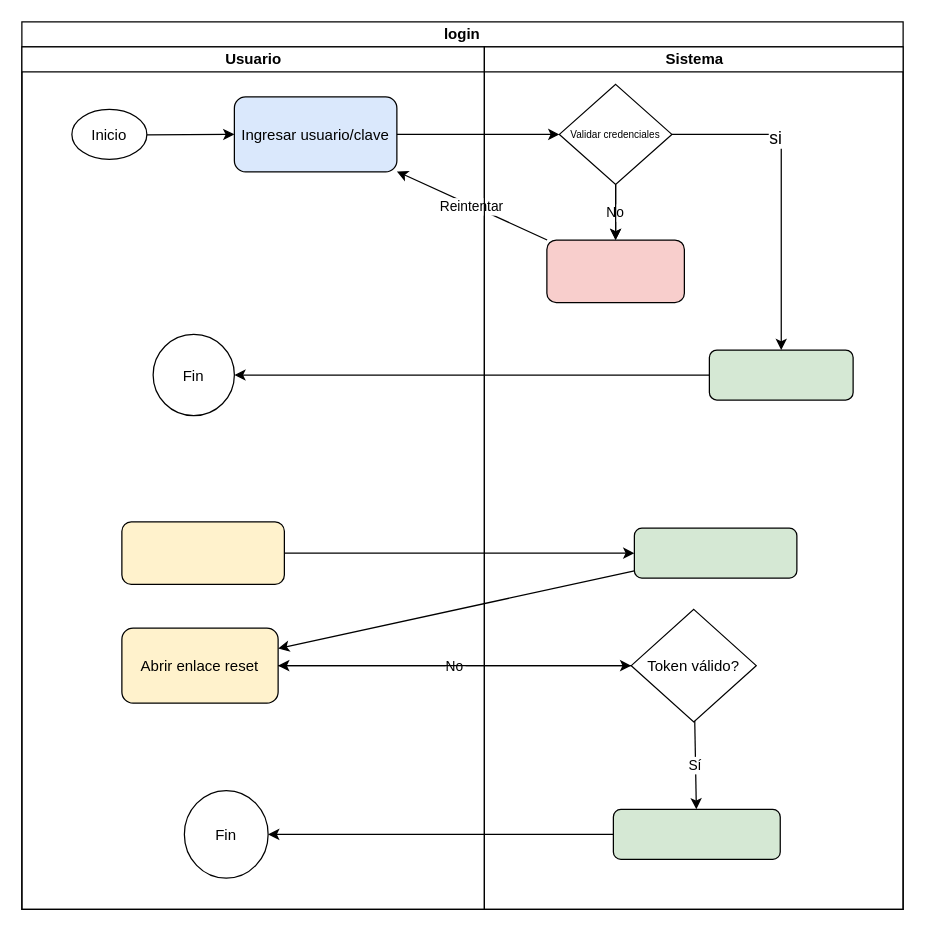
This 925x931 diagram has some shape labels left out. Here are the shapes that lost their labels. From the top down, the centre of each, then its label:
At pixel 615 270: "Error credenciales".
At pixel 780 374: "Crear sesión".
At pixel 202 552: "Olvidó contraseña".
At pixel 715 552: "Enviar email reset".
At pixel 696 833: "Resetear contraseña".
